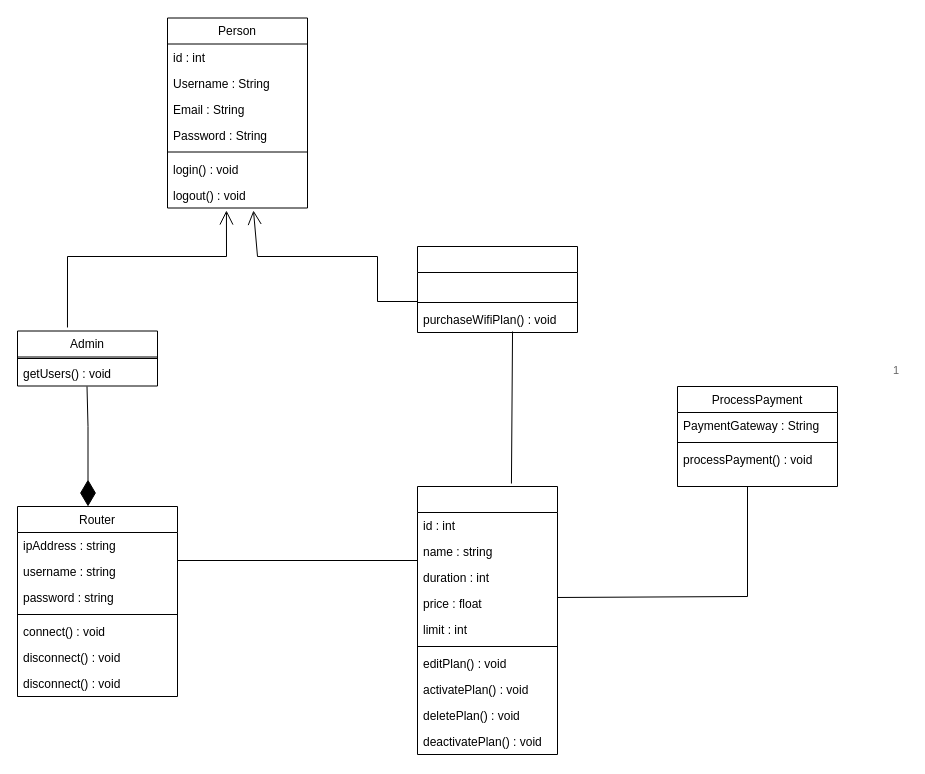
The diagram is 925 pixels wide and 774 high, and some of its shapes have lost their labels. Each missing label, with the box of its shape:
User: (416, 246, 578, 332)
WifiPlan: (416, 486, 558, 754)
